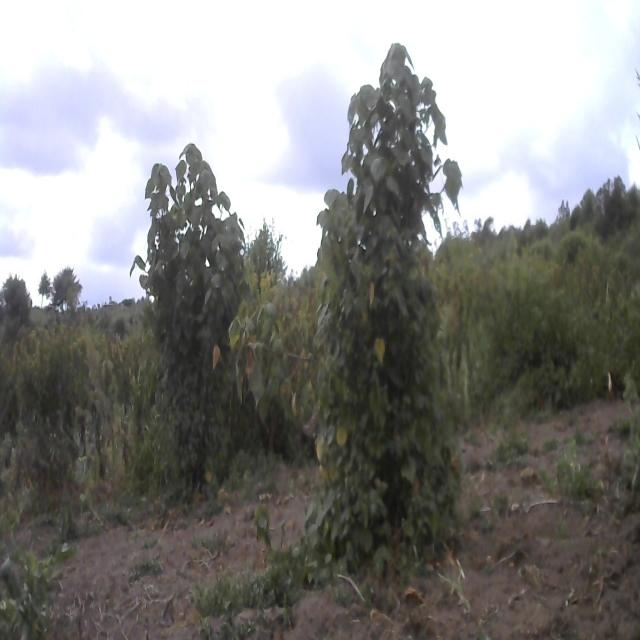cedrus: (53, 262, 79, 314), (36, 265, 50, 307)
other: (311, 36, 464, 549), (133, 137, 244, 492)
